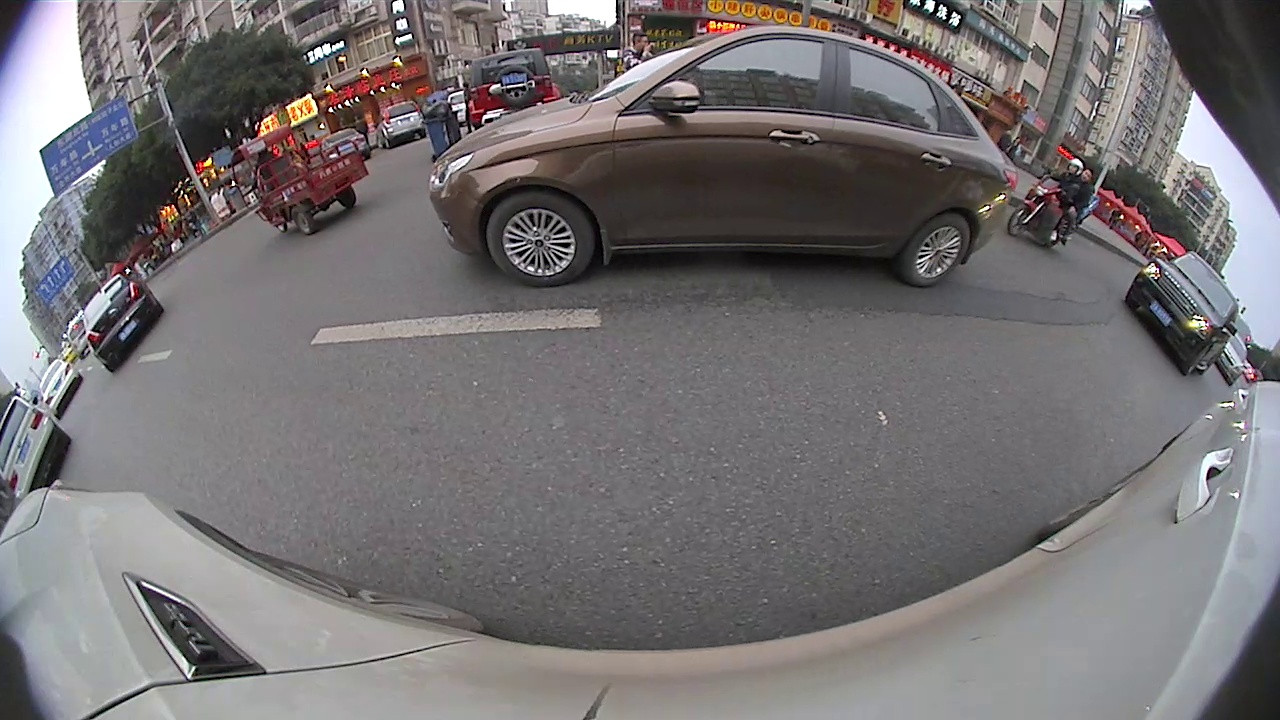car: (427, 26, 1022, 290), (1120, 248, 1242, 376), (78, 266, 166, 373), (0, 390, 77, 505), (459, 46, 561, 130), (37, 356, 90, 419), (379, 96, 427, 151)
front: (484, 189, 598, 291)
rear: (894, 211, 972, 291), (289, 204, 316, 238)
rider: (226, 116, 375, 235), (1010, 148, 1104, 252)
